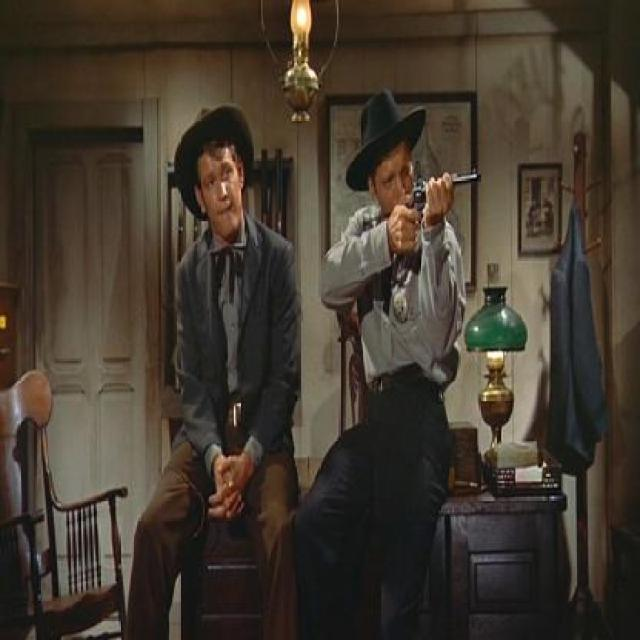gun: (395, 152, 493, 252)
